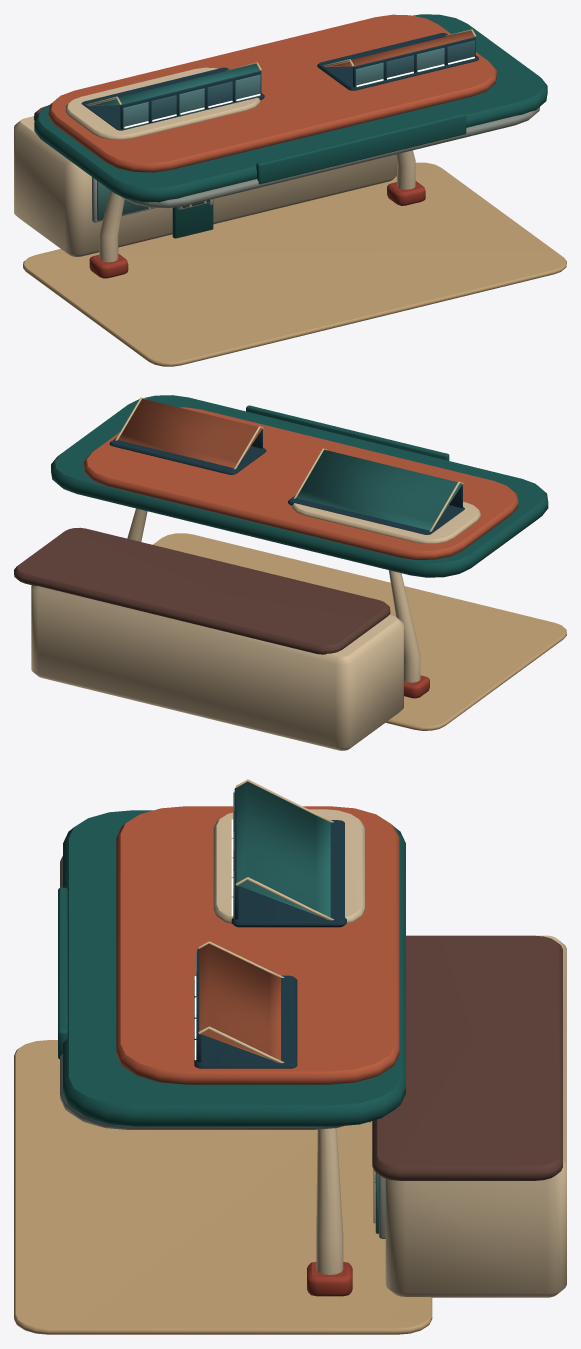
File: copper_mile.glb
3 renders of one model, top to bottom at view 1: azimuth 30°, elevation 25°; view 2: azimuth 150°, elevation 25°; view 3: azimuth 270°, elevation 25°, orthographic. The views are drawn at different scales.
Parts seen in each view (by area): view 1: CopperMile; view 2: CopperMile; view 3: CopperMile.
Boxes of the visible parts, x1,y1,x2,y2 form: CopperMile: (14, 14, 566, 366); CopperMile: (14, 395, 566, 750); CopperMile: (14, 779, 566, 1334).
Size of the model in its own units: 9.99 by 4.55 by 7.77.
